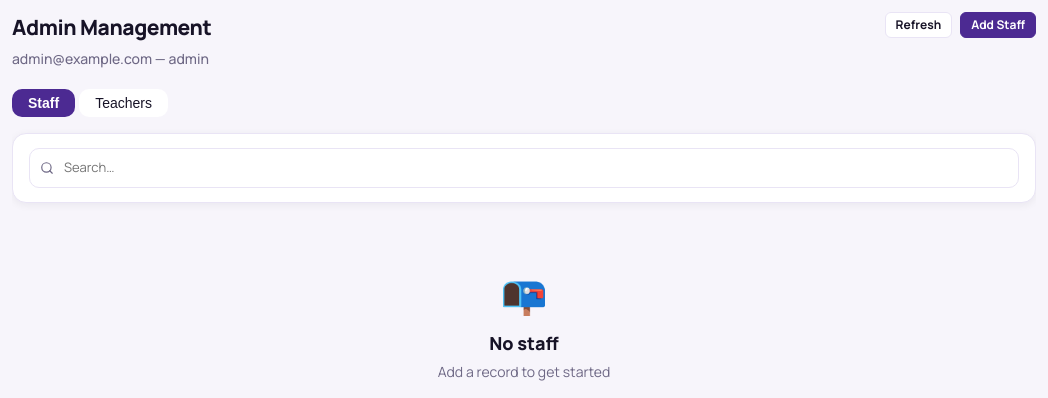
Scenario: AdminManagementPage teachers tab states › renders the table and the mobile card view with the teacher actions on each
The image size is (1048, 398).
Click the button "Teachers" at [124, 103], box [79,88,168,117]
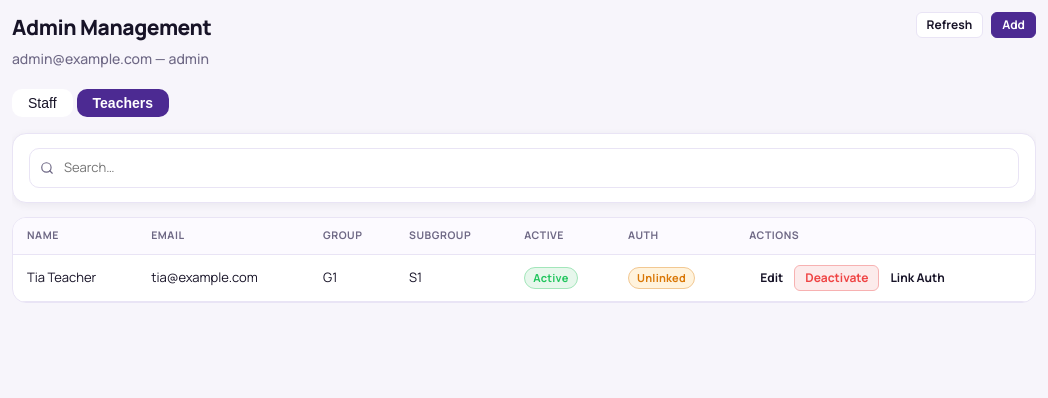
Now the table is shown, box [13,218,1035,302]
Now the text "Tia Teacher" is shown 2 times
Now the number of buttons "Edit" is 2
